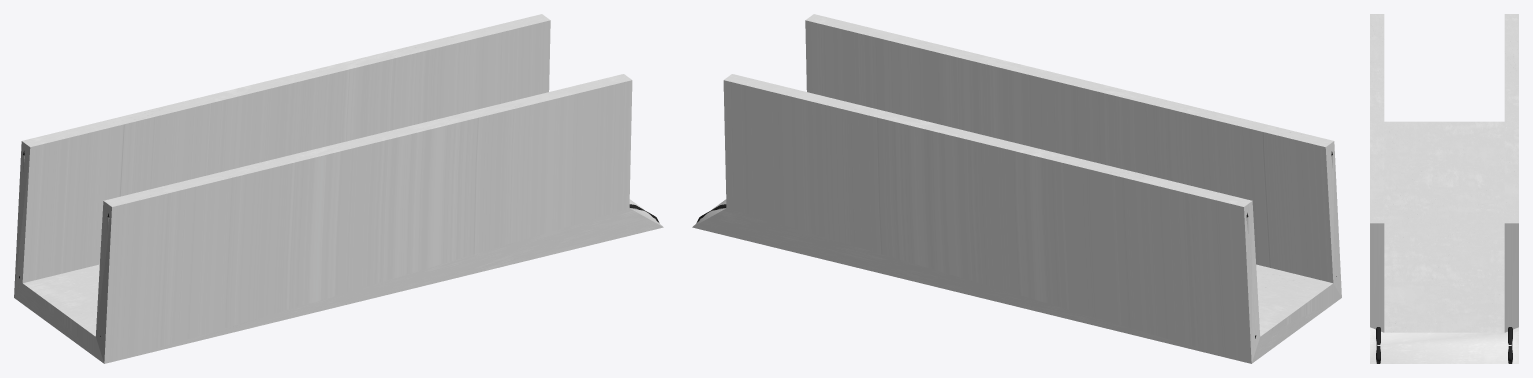
Rendered from si_gangplank.DAE.
The picture shows the model from 3 angles, left to right: view 1: azimuth 30°, elevation 25°; view 2: azimuth 150°, elevation 25°; view 3: azimuth 270°, elevation 25°; orthographic projection. The views are drawn at different scales.
Parts seen in each view (by area): view 1: Colmesh-1; view 2: Colmesh-1; view 3: Colmesh-1, si_gangplank200.
Part boxes in pixels (box(x1,y1,x2,y2)): Colmesh-1: box(14, 14, 663, 363); Colmesh-1: box(692, 14, 1341, 363); Colmesh-1: box(1370, 14, 1518, 363); si_gangplank200: box(1376, 327, 1512, 363).
Size of the model in its own units: 526 by 147 by 139.
